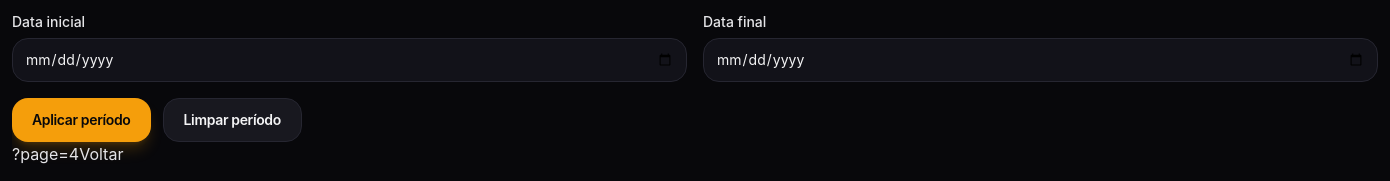
OrdersPeriodFilter › applies labeled dates and resets pagination
The width and height of the screenshot is (1390, 181).
Type "2026-07-01" into the date field labelled "Data inicial" at (350, 60), box [12, 38, 687, 82]
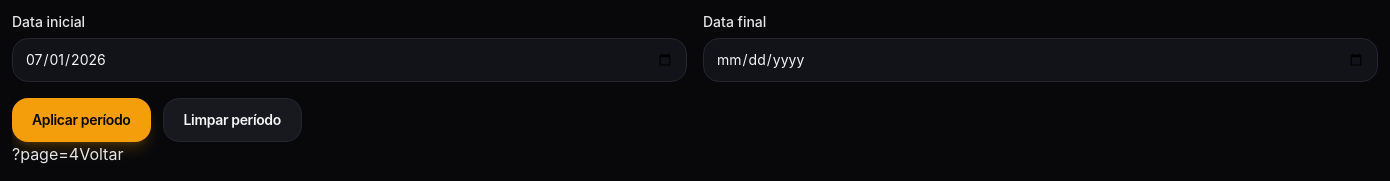
Type "2026-07-15" into the date field labelled "Data final" at (1040, 60), box [703, 38, 1378, 82]
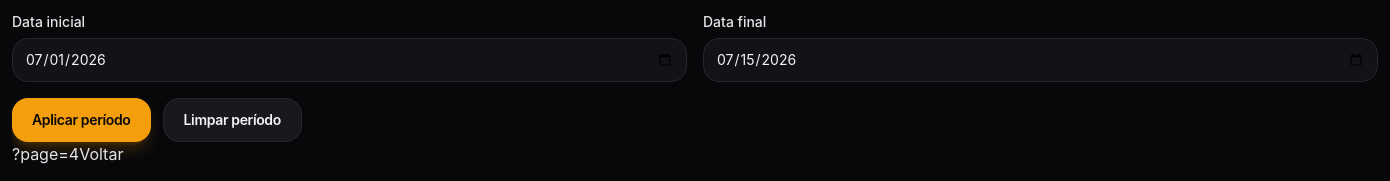
Click the button "Aplicar período" at (81, 120), box [12, 98, 150, 142]
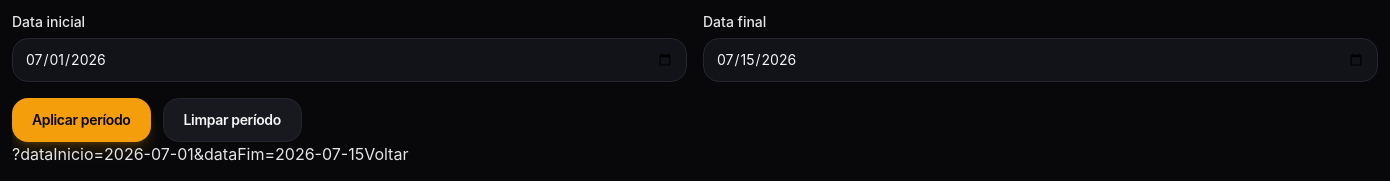
Result: the text named "URL atual" reads "?dataInicio=2026-07-01&dataFim=2026-07-15" at [12, 144, 364, 164]
